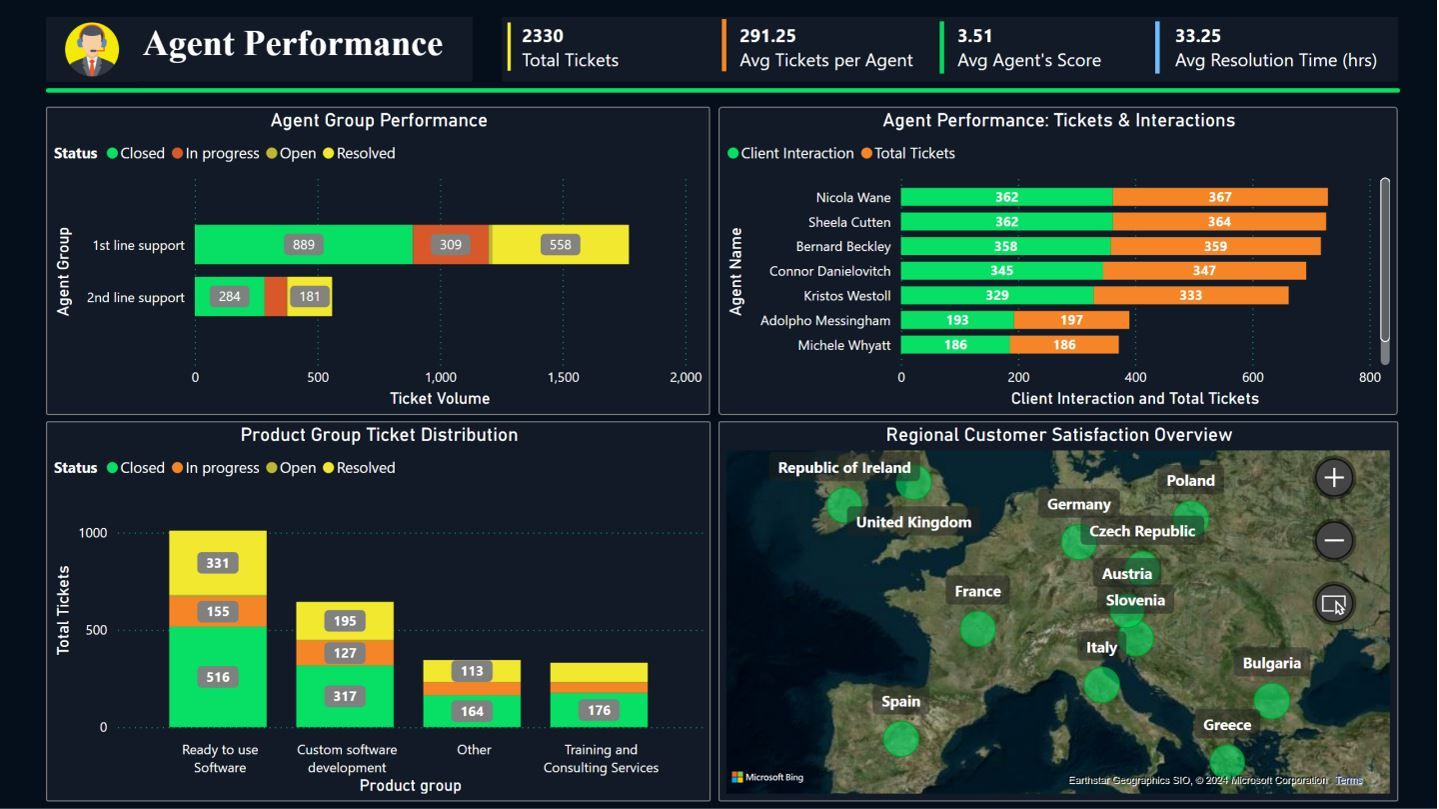

What the dashboard file says about the page in this screenshot:
{"tool":"powerbi","page":{"name":"Agent Performance and Customer Satisfaction","canvas":[1280,720],"ordinal":2},"visuals":[{"type":"textbox","box":[122,14.6,298.8,57.3],"z":0},{"type":"barChart","title":"Agent Performance: Tickets & Interactions","fields":{"Category":["Technical Support Dataset.Agent Name"],"Y":["CountNonNull(Technical Support Dataset.Agent interactions)","Technical Support Dataset.Total Tickets"]},"box":[640.2,95.1,604.9,274.4],"z":3000},{"type":"barChart","title":"Agent Group Performance","fields":{"Category":["Technical Support Dataset.Agent Group"],"Y":["CountNonNull(Technical Support Dataset.Ticket ID)"],"Series":["Technical Support Dataset.Status"]},"box":[41.5,95.1,591.5,274.4],"z":4000},{"type":"shape","title":"Agent Performance: Survey Scores & Interaction Count","box":[41.5,22,1206.1,117.1],"z":5000},{"type":"multiRowCard","fields":{"Values":["Technical Support Dataset.Total Tickets","DateTable.Avg Tickets per Agent","DateTable.Avg Satisfaction Score per Agent","Technical Support Dataset.Avg Resolution Time per Agent (Hours)"]},"box":[446.7,14.7,798.7,57.3],"z":6000},{"type":"columnChart","title":"Product Group Ticket Distribution","fields":{"Category":["Technical Support Dataset.Product group"],"Y":["Technical Support Dataset.Total Tickets"],"Series":["Technical Support Dataset.Status"]},"box":[41.3,374.7,592,338.7],"z":7000},{"type":"map","title":"Regional Customer Satisfaction Overview","fields":{"Category":["Technical Support Dataset.Country"],"Size":["Avg(Technical Support Dataset.Survey results)"]},"box":[640,374.7,605.3,338.7],"z":8000},{"type":"shape","box":[494.7,17.3,300,46.7],"z":8001},{"type":"shape","box":[689.3,18.7,300,46.7],"z":8002},{"type":"shape","box":[881.3,18.7,300,46.7],"z":8003},{"type":"image","box":[41,15,82,58],"z":8004}]}

Visuals, with their boxes in screenshot pixels (x1, y1, x2, y2), scaled from the page's 1280x720 canvas onto the 1439x809 screenshot:
textbox: region(137, 16, 473, 81)
"Agent Performance: Tickets & Interactions" barChart: region(720, 107, 1400, 415)
"Agent Group Performance" barChart: region(47, 107, 712, 415)
"Agent Performance: Survey Scores & Interaction Count" shape: region(47, 25, 1403, 156)
multiRowCard - Technical Support Dataset.Total Tickets x DateTable.Avg Tickets per Agent: region(502, 17, 1400, 81)
"Product Group Ticket Distribution" columnChart: region(46, 421, 712, 802)
"Regional Customer Satisfaction Overview" map: region(720, 421, 1400, 802)
shape: region(556, 19, 893, 72)
shape: region(775, 21, 1112, 73)
shape: region(991, 21, 1328, 73)
image: region(46, 17, 138, 82)
